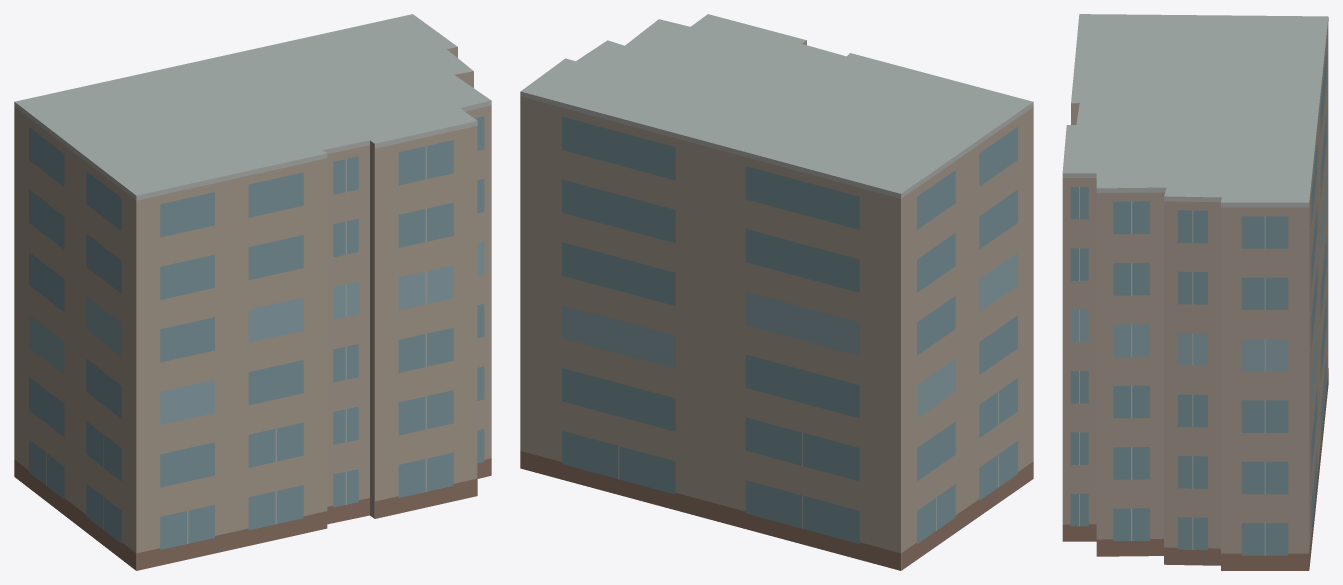
The model's file is survey-upis-32725809.glb.
3 renders of one model, left to right at view 1: azimuth 30°, elevation 25°; view 2: azimuth 150°, elevation 25°; view 3: azimuth 270°, elevation 25°, orthographic. The views are drawn at different scales.
Visible parts, largest first — view 1: survey-upis-32725809.tmp; view 2: survey-upis-32725809.tmp; view 3: survey-upis-32725809.tmp.
Boxes of the visible parts, bbox=[...] form: survey-upis-32725809.tmp: bbox=[14, 14, 491, 570]; survey-upis-32725809.tmp: bbox=[520, 14, 1033, 570]; survey-upis-32725809.tmp: bbox=[1062, 14, 1328, 570].
Size of the model in its own units: 20.49 by 18.65 by 12.21.
